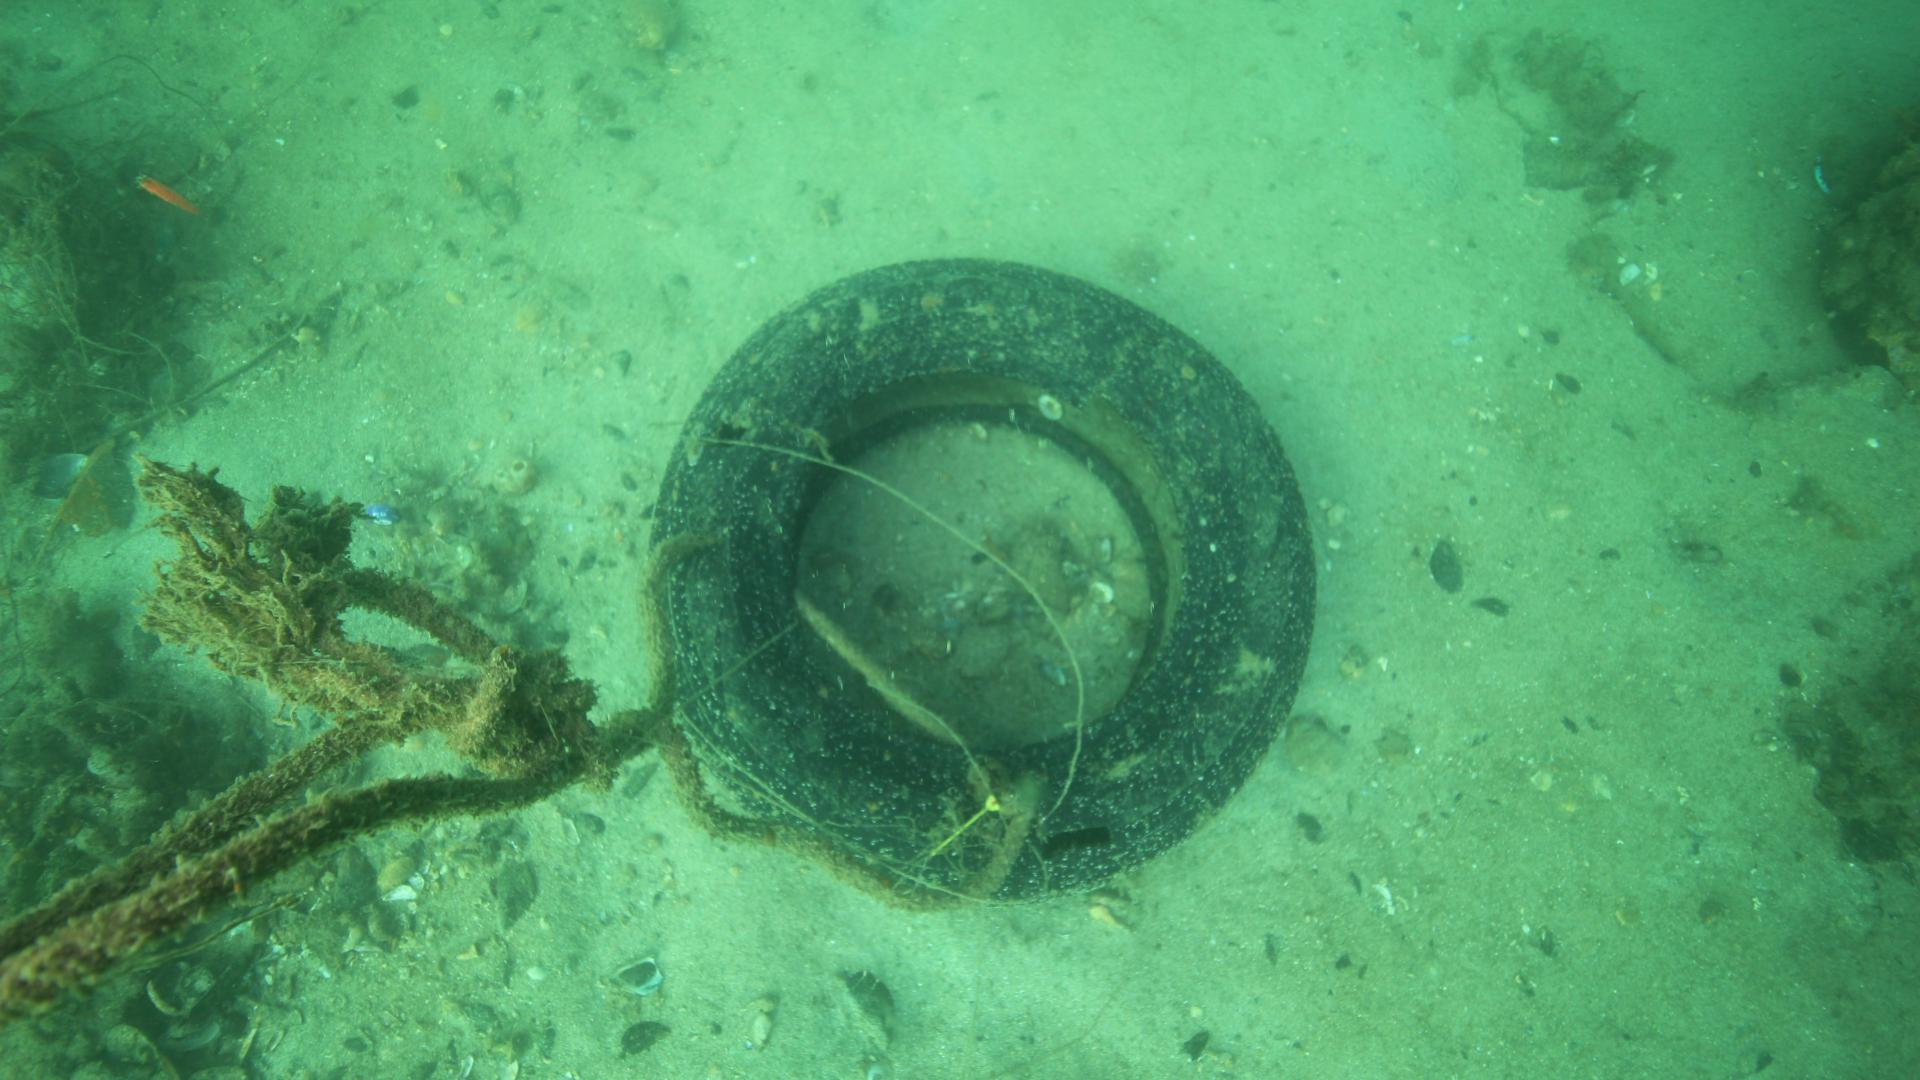bundle of ropes: (0, 564, 1050, 1015)
tire: (644, 253, 1317, 899)
